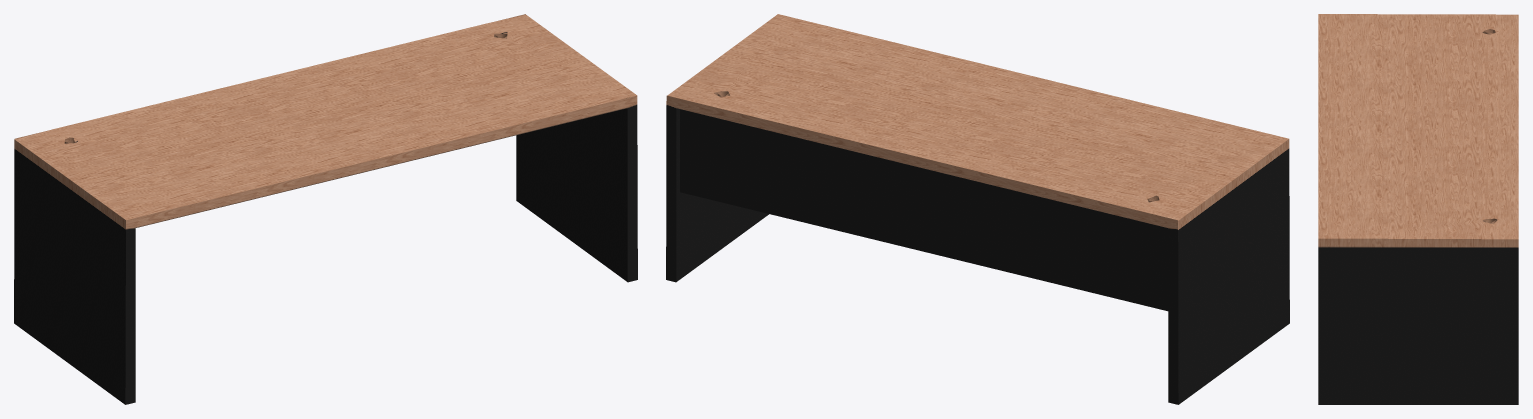
The picture shows the model from 3 angles, left to right: view 1: azimuth 30°, elevation 25°; view 2: azimuth 150°, elevation 25°; view 3: azimuth 270°, elevation 25°; orthographic projection. The views are drawn at different scales.
Parts seen in each view (by area): view 1: Desk; view 2: Desk; view 3: Desk.
Boxes of the visible parts, left/top/right/bottom form: Desk: left=14, top=14, right=637, bottom=404; Desk: left=666, top=14, right=1289, bottom=404; Desk: left=1318, top=14, right=1518, bottom=404.
Size of the model in its own units: 400 by 138 by 151.
1 material, 1 textured.
